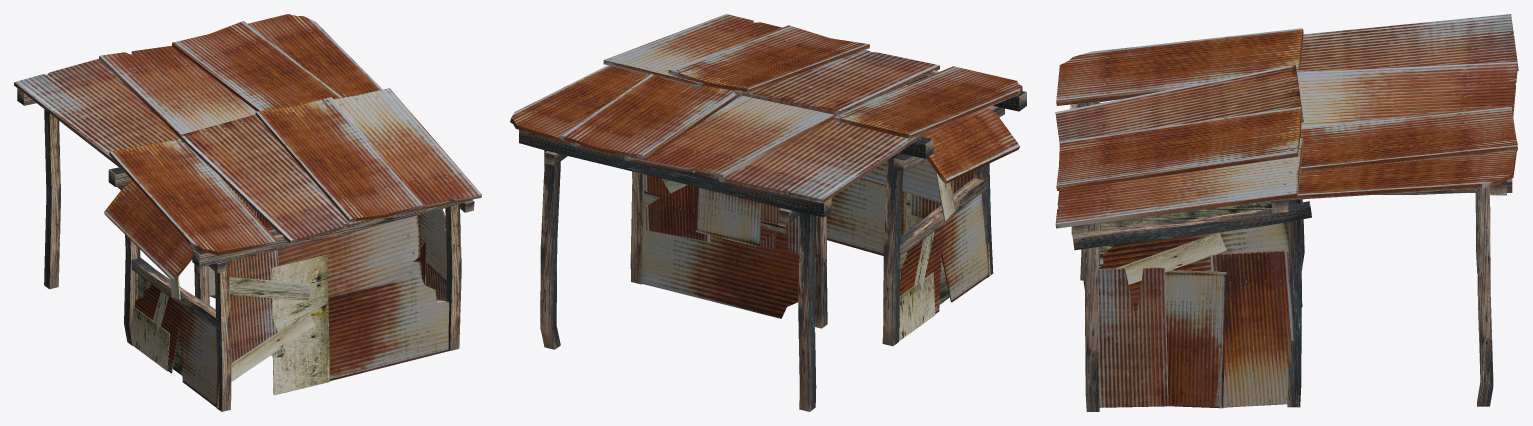
Rendered from OldShack.fbx.
3 views of the same model, side by side, from view 1: azimuth 30°, elevation 25°; view 2: azimuth 150°, elevation 25°; view 3: azimuth 270°, elevation 25° (orthographic). The views are drawn at different scales.
Parts seen in each view (by area): view 1: pasted__pasted__pasted__pasted__pCube3.002; view 2: pasted__pasted__pasted__pasted__pCube3.002; view 3: pasted__pasted__pasted__pasted__pCube3.002.
Part boxes in pixels (x1,y1,x2,y2): pasted__pasted__pasted__pasted__pCube3.002: (14,14,481,411); pasted__pasted__pasted__pasted__pCube3.002: (510,14,1026,411); pasted__pasted__pasted__pasted__pCube3.002: (1055,14,1518,411).
Bounding box in the file's own units: 2.62 × 1.76 × 2.94.
